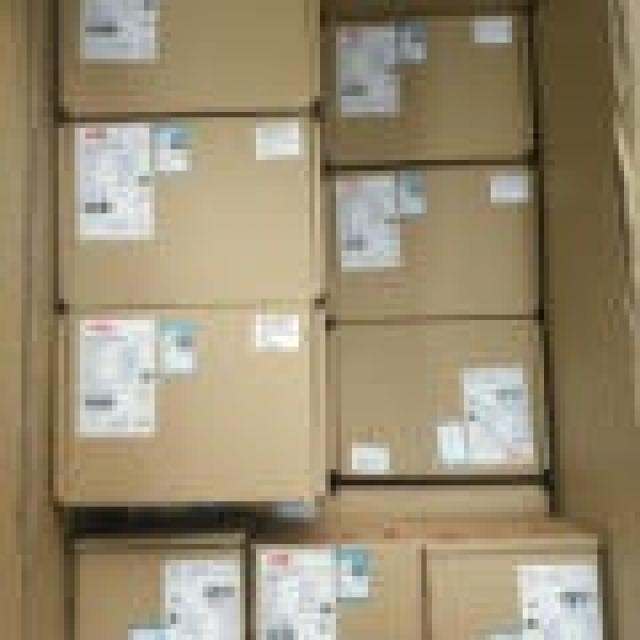box: (0, 1, 635, 635), (57, 114, 325, 307), (59, 307, 310, 509), (324, 160, 539, 323), (326, 319, 544, 478), (323, 17, 538, 165), (56, 1, 322, 114), (388, 508, 603, 635), (64, 505, 264, 635), (249, 505, 421, 635), (323, 475, 551, 505), (312, 305, 327, 502)
